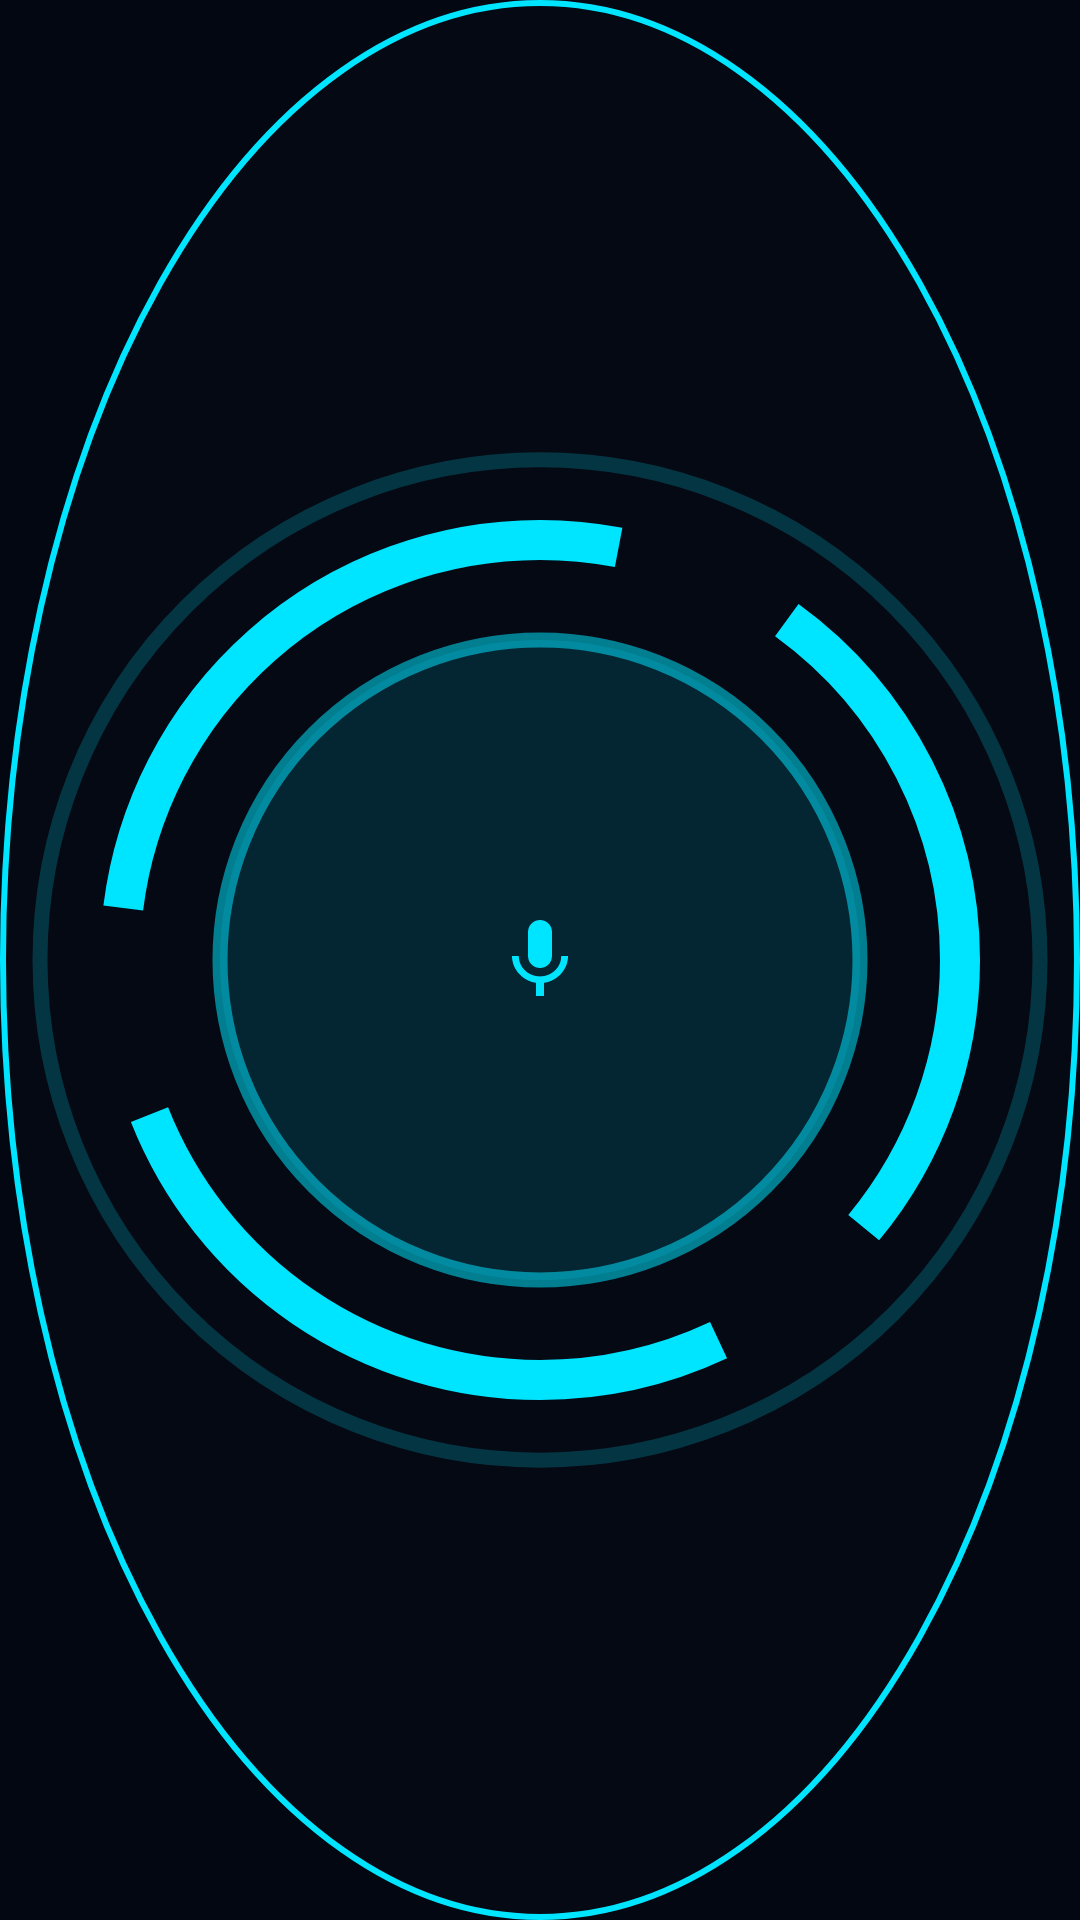

Named icons in this screenshot (1080×1920) and their centers, (x=x, y=y):
mic cyan: (x=540, y=958)
